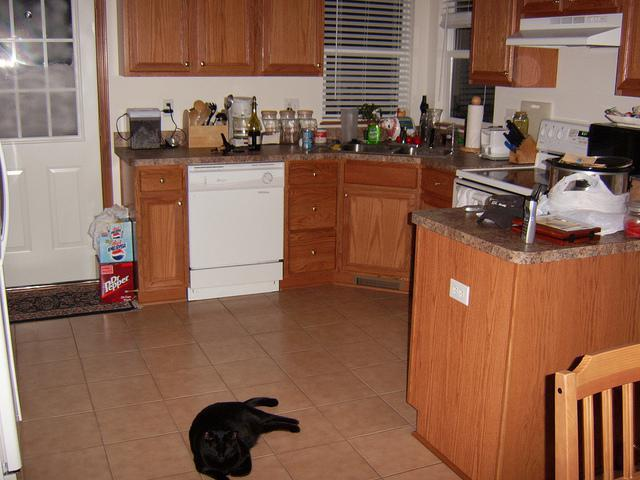Lavaplatos: (333, 122, 462, 164)
Otro Obstaculo: (176, 396, 301, 479)
